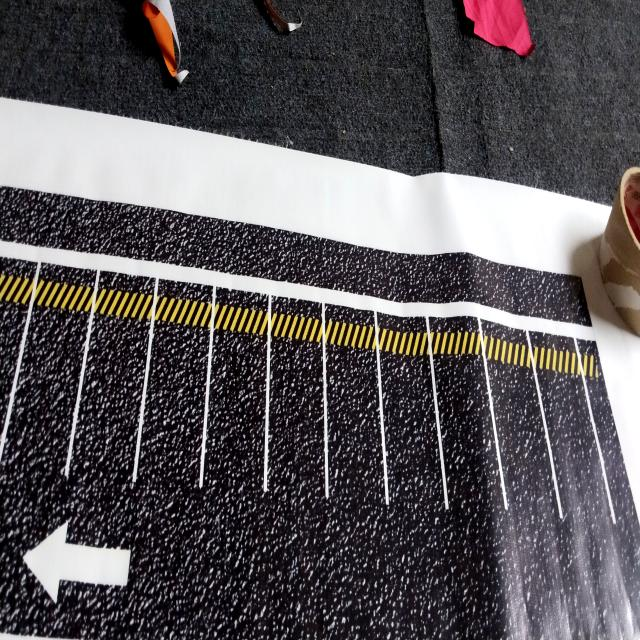others: (600, 168, 640, 334), (463, 0, 533, 55), (142, 0, 188, 82), (263, 0, 300, 32), (162, 49, 170, 59)
slots: (0, 306, 89, 499), (69, 311, 149, 510), (538, 370, 611, 559), (488, 360, 558, 557), (137, 320, 210, 501), (380, 350, 445, 529), (434, 355, 499, 528), (326, 340, 386, 522), (201, 328, 267, 493), (267, 335, 325, 521)
